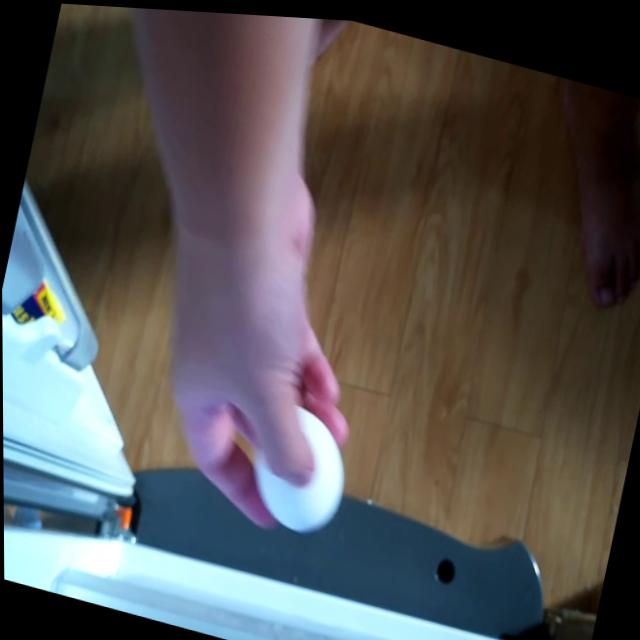egg: (236, 390, 364, 543)
